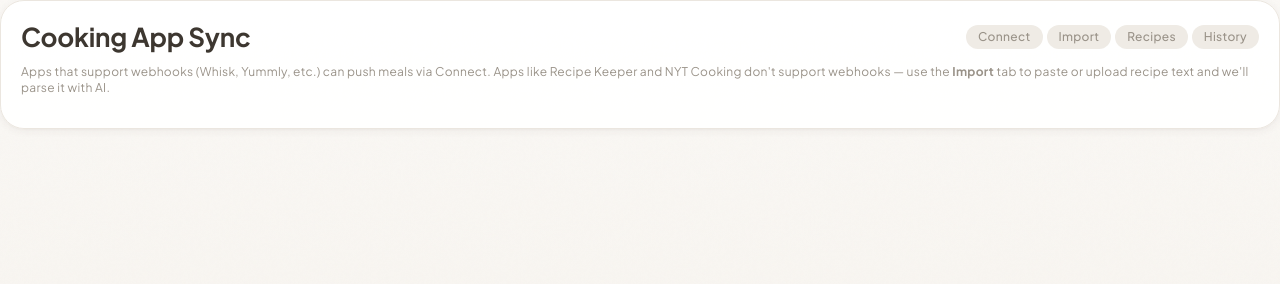
Test: CookingAppSync › shows History tab with empty state
This screenshot has width=1280, height=284.
Click the button "History" at (1225, 37), box [1192,25,1259,49]
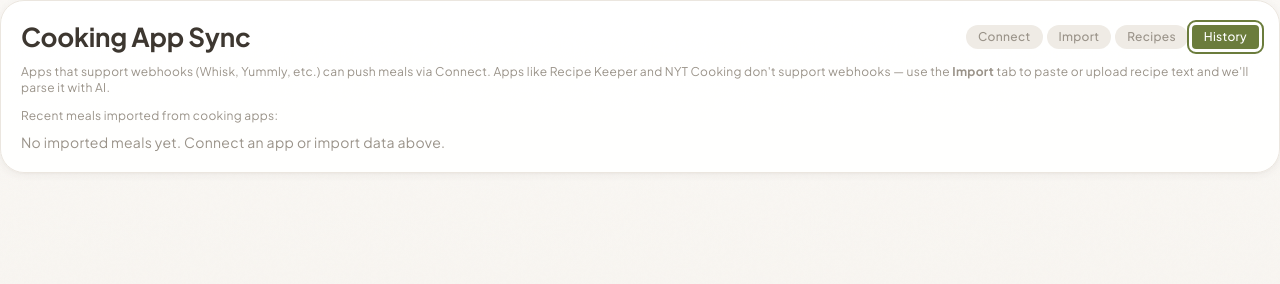
expect the text "No imported meals yet. Connect an app or import data above." is shown: met, box [21,133,445,151]
